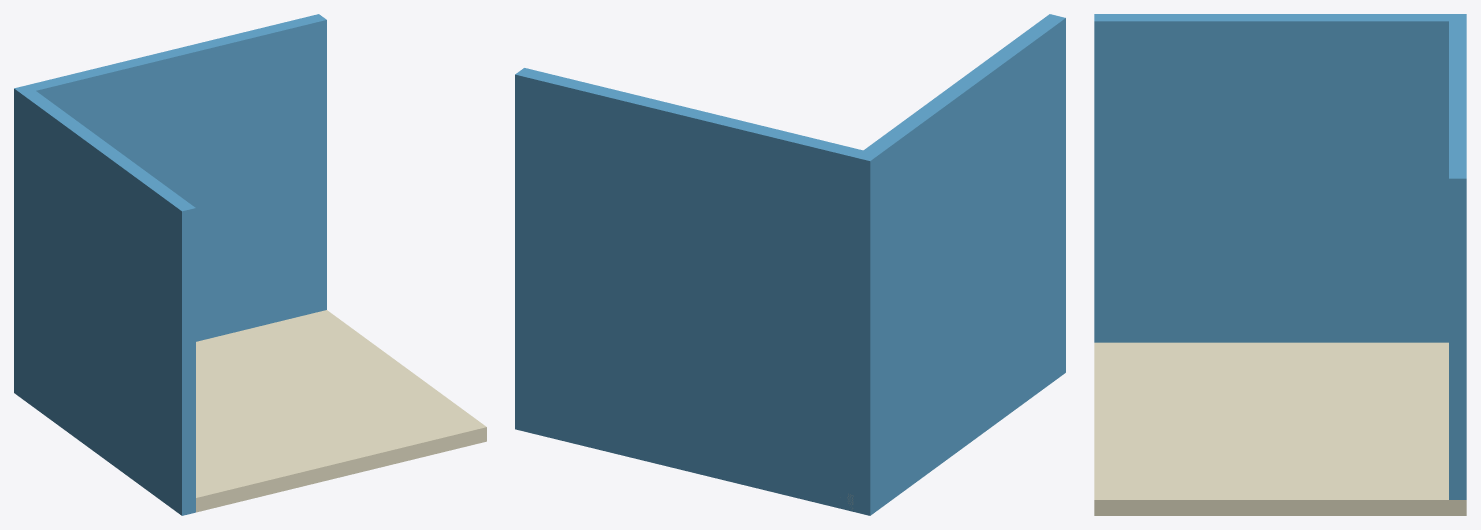
Rendered from room_blue.glb.
3 renders of one model, left to right at view 1: azimuth 30°, elevation 25°; view 2: azimuth 150°, elevation 25°; view 3: azimuth 270°, elevation 25°, orthographic. The views are drawn at different scales.
Parts seen in each view (by area): view 1: wall, wall002, Object001; view 2: wall002, wall; view 3: wall, Object001, wall002.
Boxes of the visible parts, box(x1,y1,x2,y2) form: wall: box(14, 85, 195, 515); wall002: box(28, 14, 326, 341); Object001: box(196, 310, 486, 512); wall002: box(515, 68, 862, 511); wall: box(854, 14, 1065, 515); wall: box(1094, 14, 1466, 342); Object001: box(1094, 342, 1466, 515); wall002: box(1449, 21, 1466, 499).
Bounding box in the file's own units: 0.44 × 0.42 × 0.42.
1 material, 1 textured.
